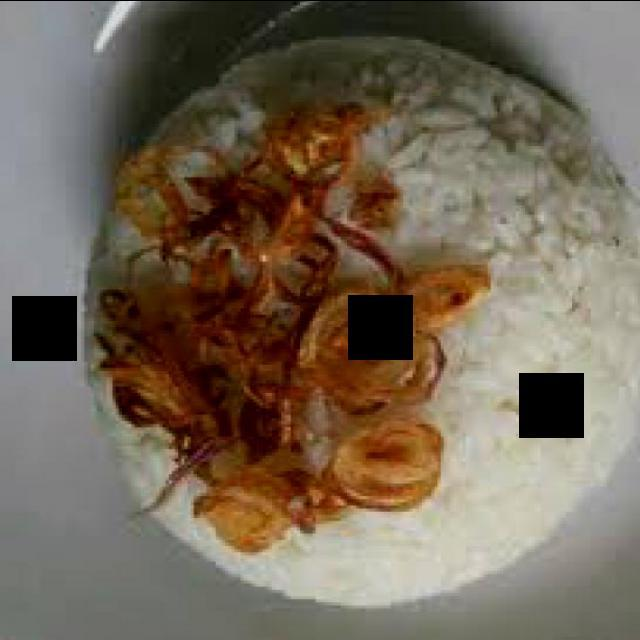rice: (81, 33, 640, 607)
